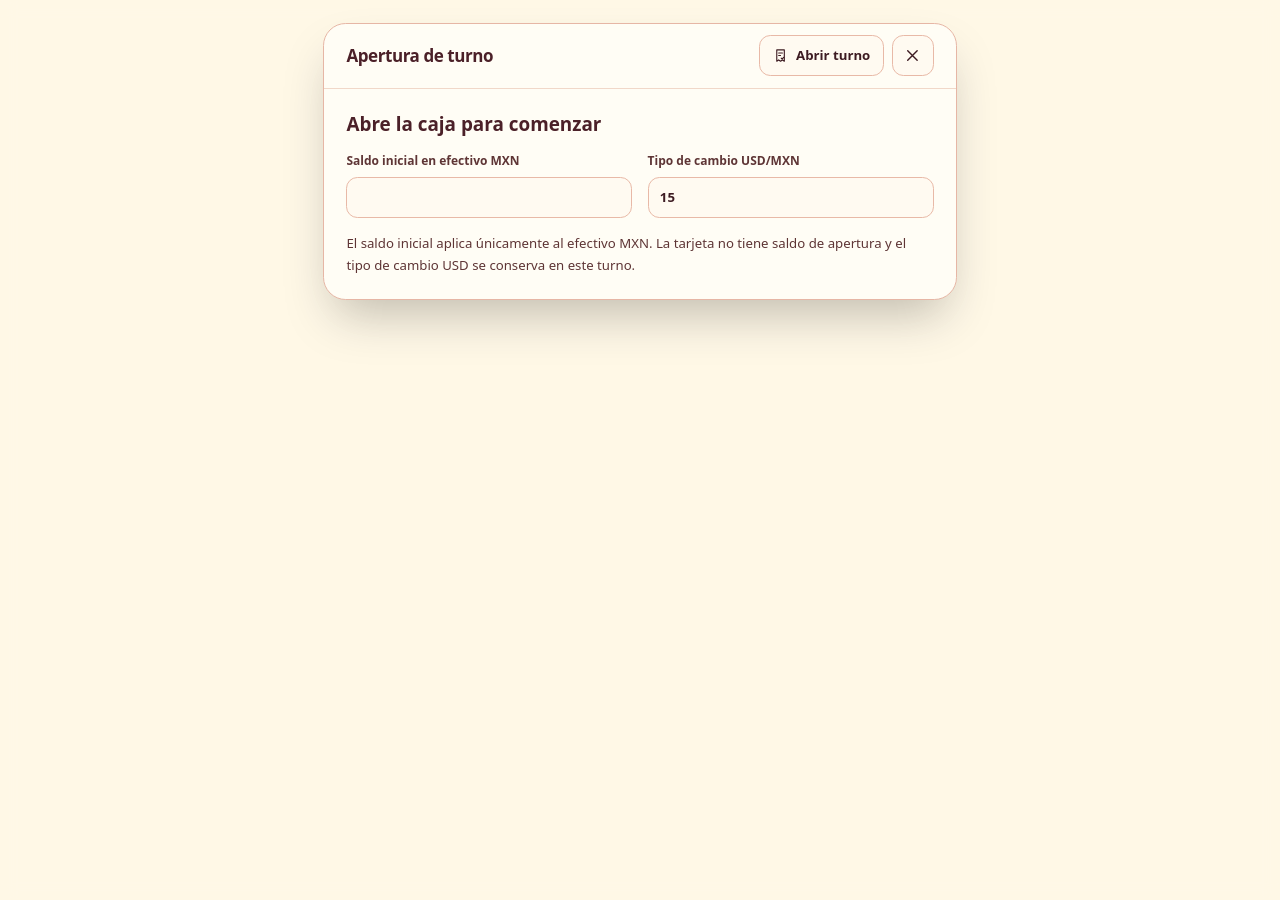
Scenario: POS shift workspace › keeps the opening modal open for validation errors and API failures
The width and height of the screenshot is (1280, 900).
Type "-1" into the number field labelled "Saldo inicial en efectivo MXN".
click(490, 197); type("-1")  # box x1=346 y1=176 x2=632 y2=218
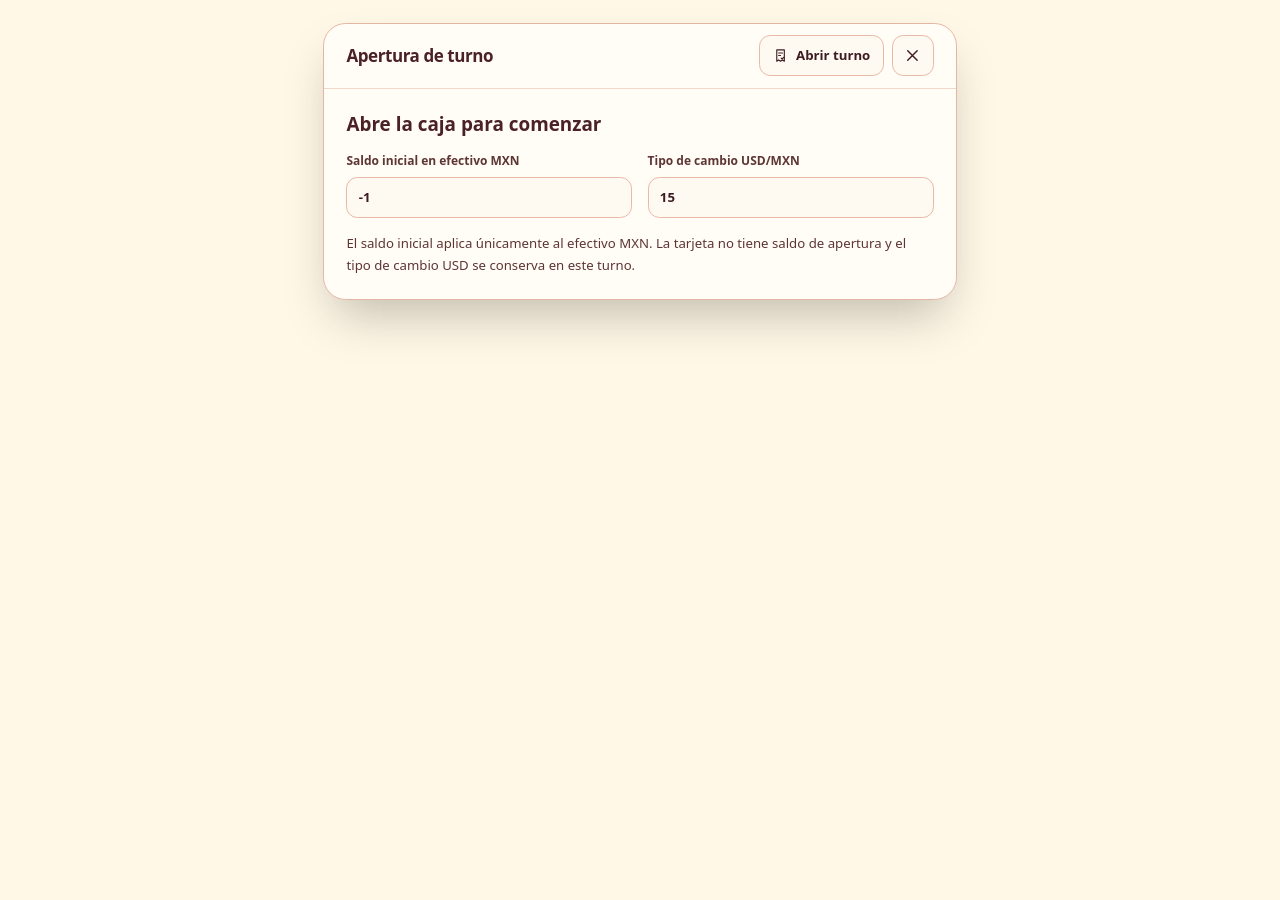
Click the button "Abrir turno".
click(822, 56)  # box x1=759 y1=35 x2=884 y2=76
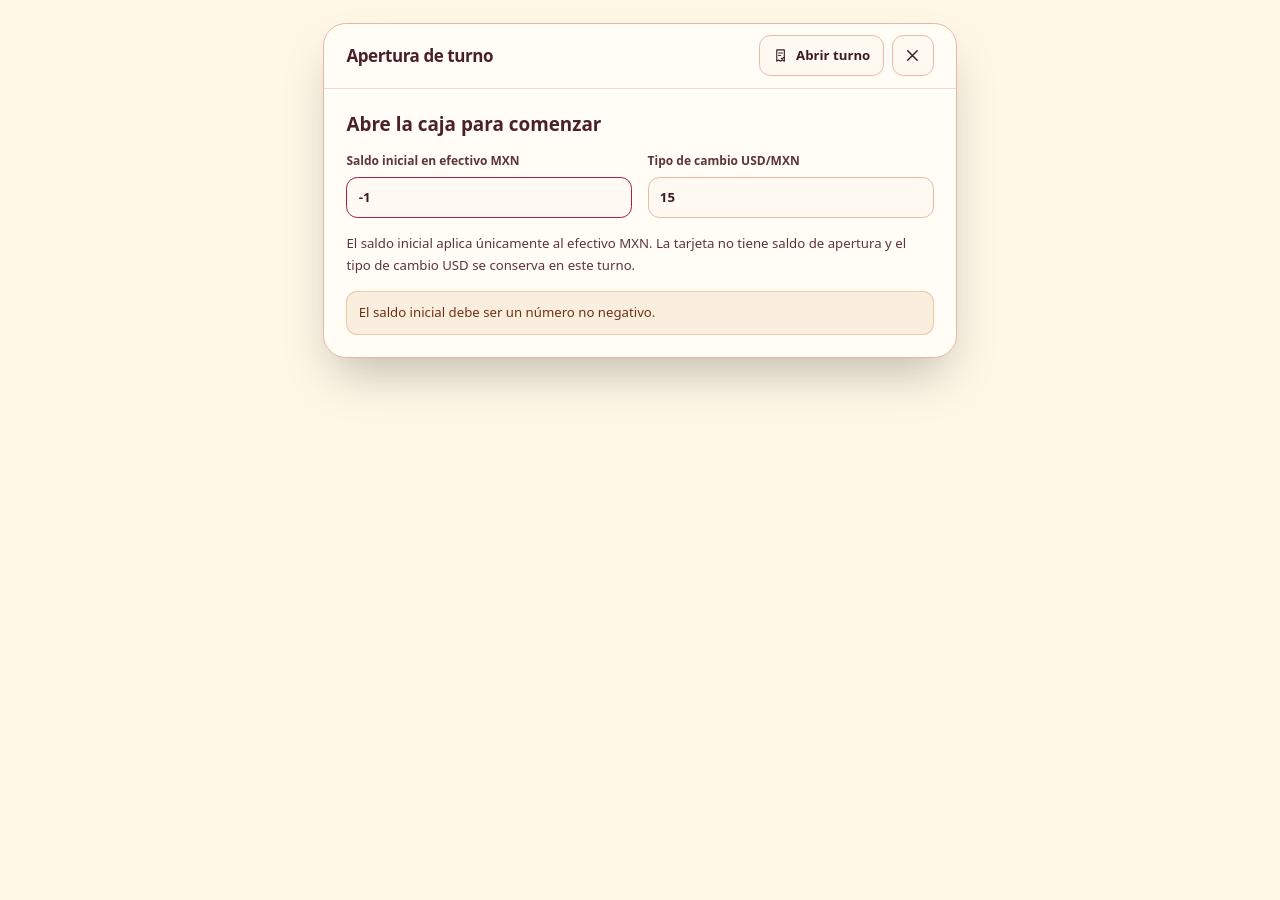
Now the message shows "no negativo", box x1=359 y1=304 x2=655 y2=322
Replace the text in the number field labelled "Saldo inicial en efectivo MXN" with "500" at (490, 197), box x1=346 y1=176 x2=632 y2=218
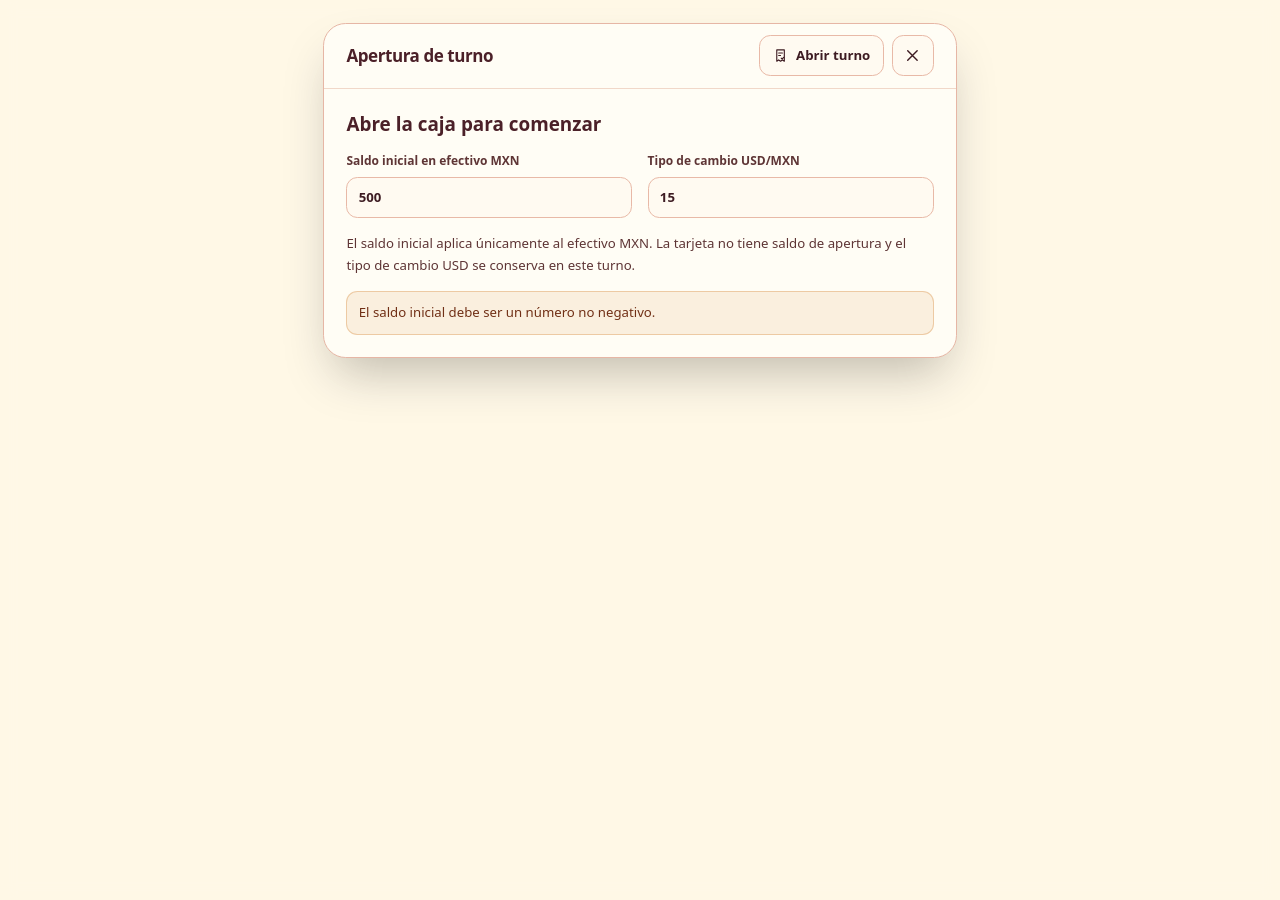
Click the button "Abrir turno".
click(822, 56)  # box x1=759 y1=35 x2=884 y2=76
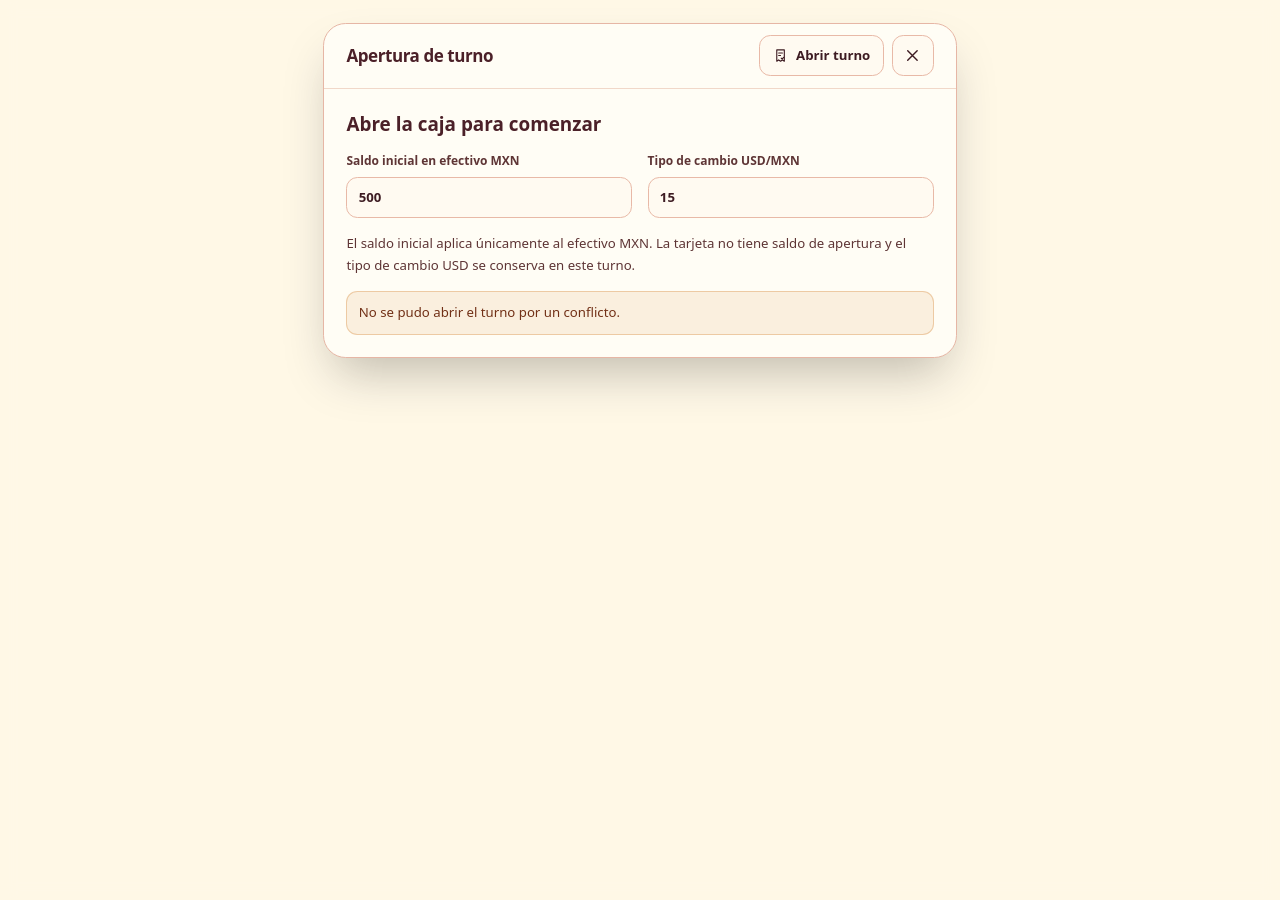
Expected: the dialog "Apertura de turno" is shown, x1=323 y1=23 x2=957 y2=358
Now the message reads "No se pudo abrir el turno por un conflicto.", box x1=359 y1=304 x2=620 y2=322
